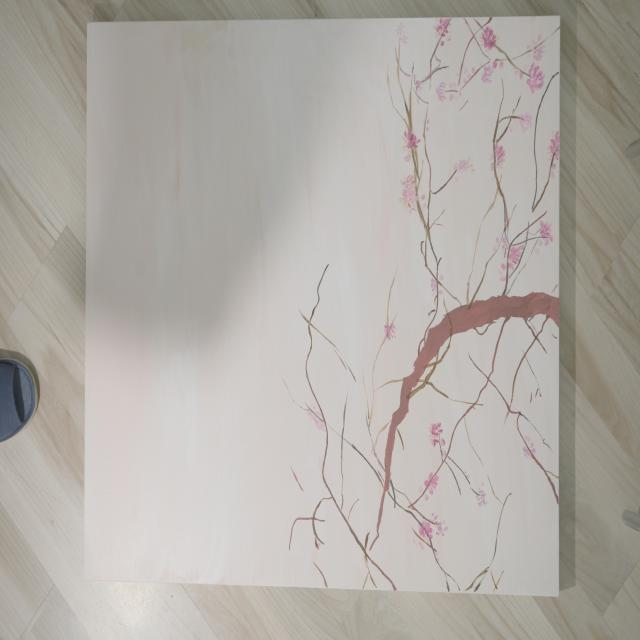painting: (85, 17, 559, 595)
